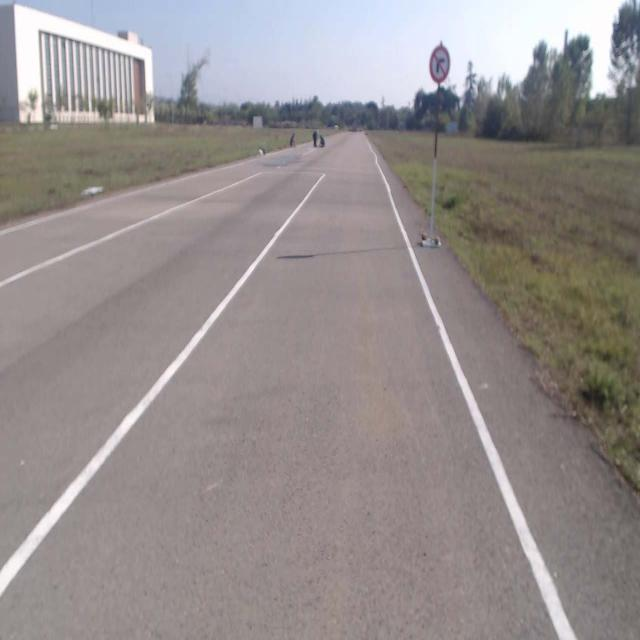sagadonulmez: (430, 47, 450, 82)
